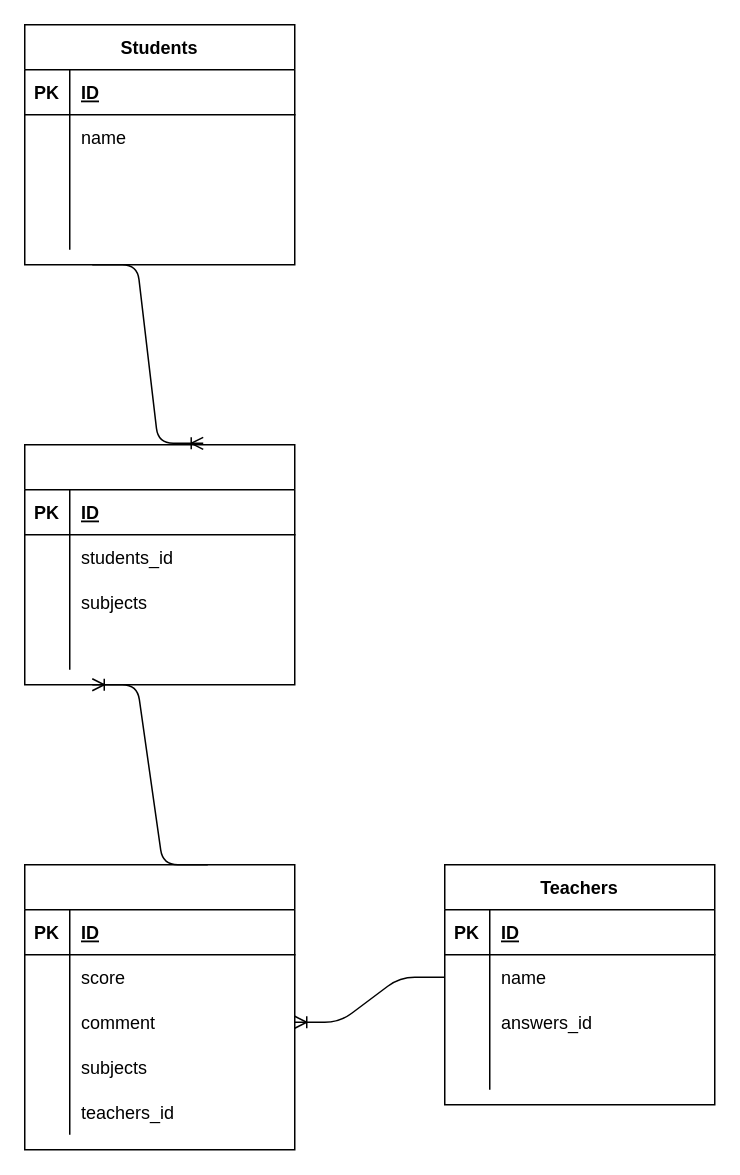
The diagram is 740 pixels wide and 1175 high, and some of its shapes have lost their labels. Here are the shapes that lost their labels. From the top down, the box of each, then its label:
(23, 443, 295, 685): Orders
(23, 863, 295, 1150): Answers
